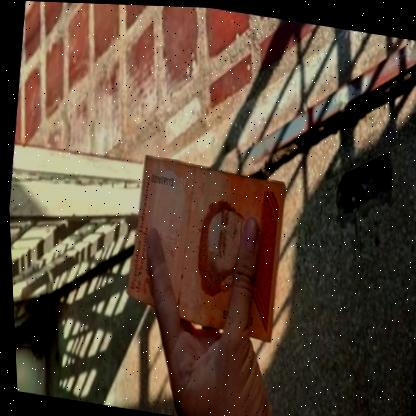twenty-front-vef: (113, 150, 291, 340)
